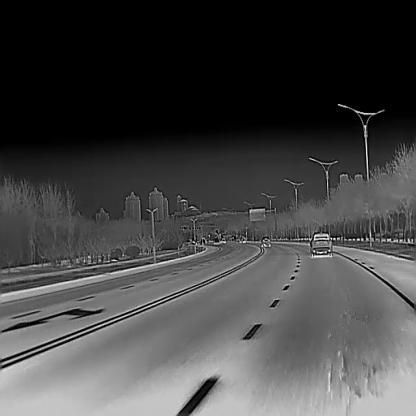car: (309, 230, 332, 257), (260, 236, 270, 247), (239, 236, 246, 243), (219, 238, 226, 243)
